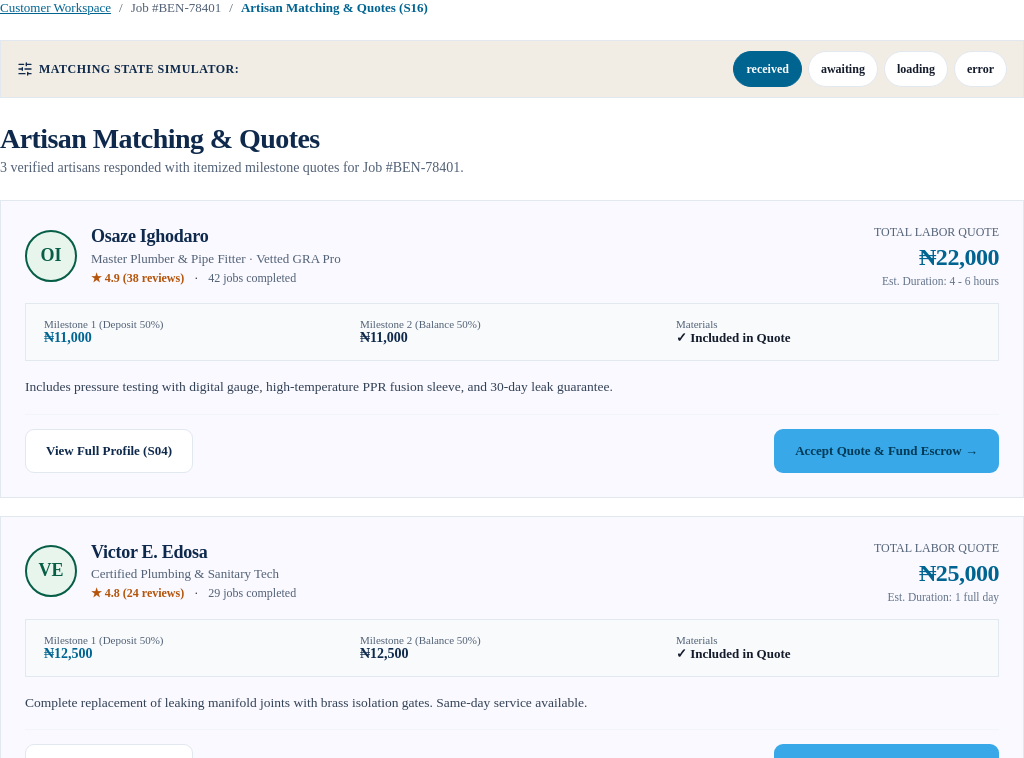
Test: Customer Requests & Matching (S13, S14, S15, S16) › renders S16 Matching Quotes and supports simulator state switching
The image size is (1024, 758).
Expected: the heading "Artisan Matching & Quotes" is shown, [0, 123, 320, 154]
Expected: the heading "Osaze Ighodaro" is shown, [91, 226, 208, 246]
# Switch to awaiting state
Click the button "awaiting" at (843, 69), box [808, 51, 878, 87]
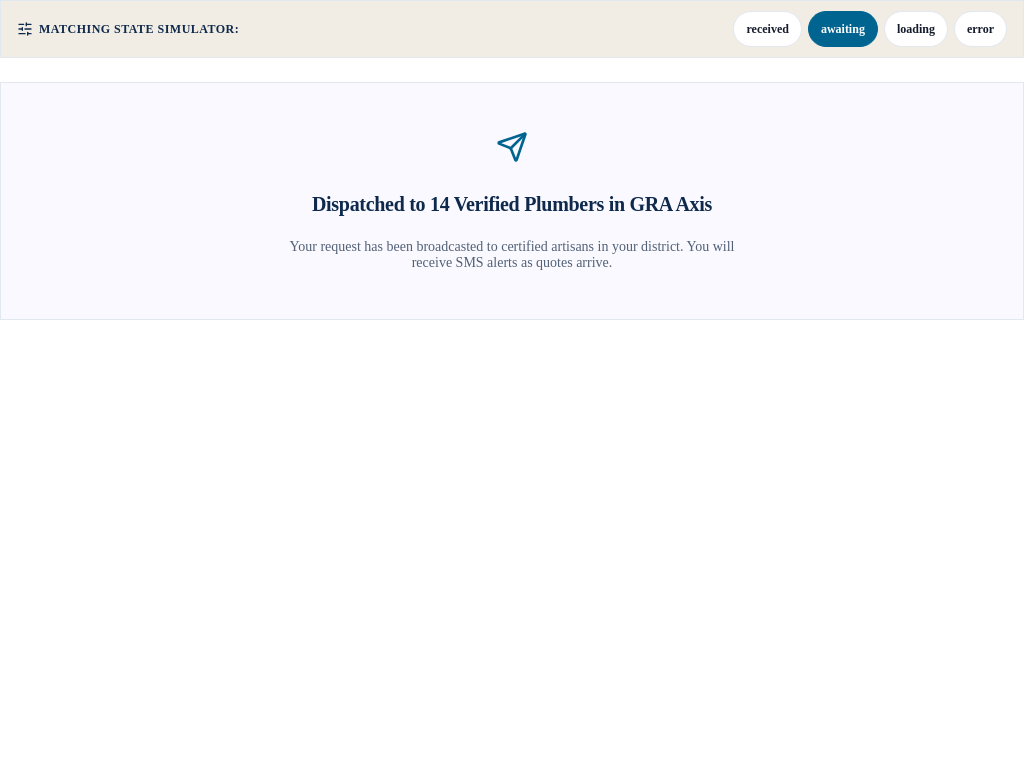
Now the element with test id "matching-awaiting" is shown, box [0, 0, 1023, 368]
# Switch to loading state
Click the button "loading" at (916, 29), box [884, 11, 948, 47]
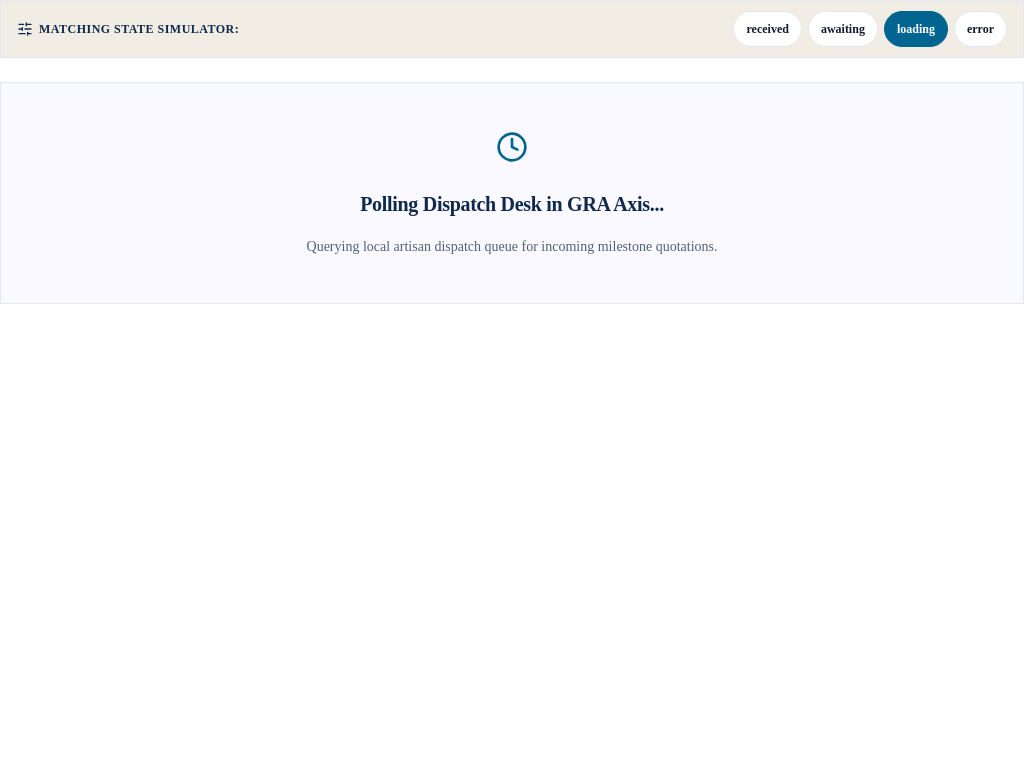
Now the element with test id "matching-loading" is shown, box [0, 0, 1023, 352]
# Switch to error state
Click the button "error" at (980, 29), box [954, 11, 1007, 47]
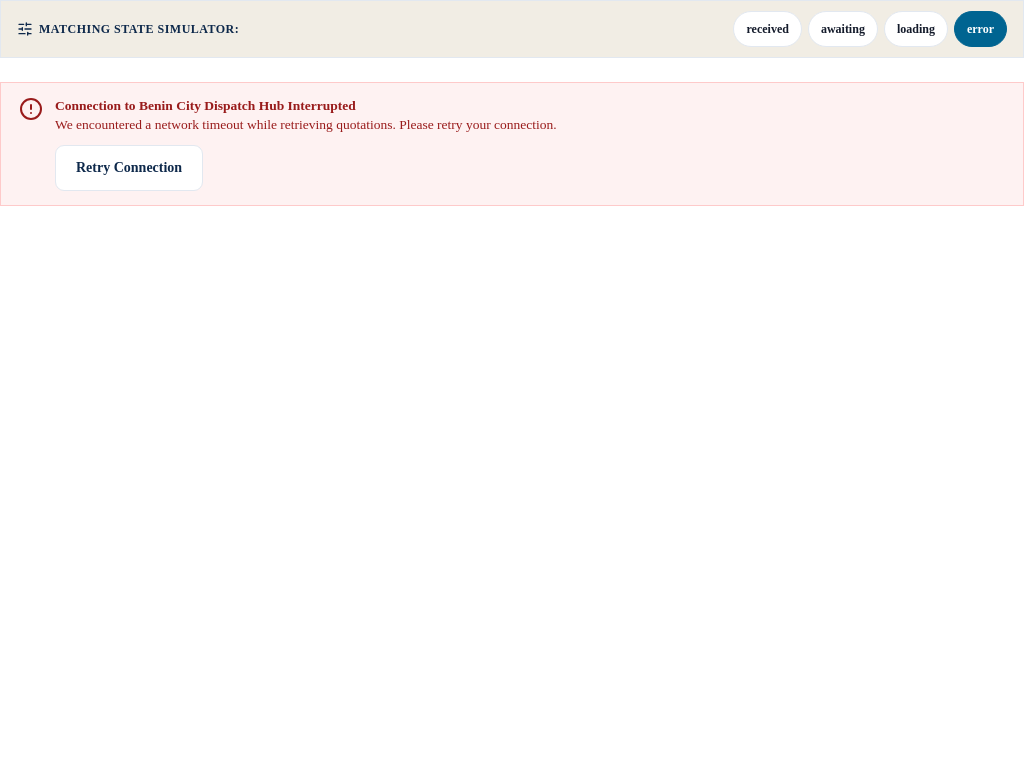
Now the element with test id "matching-error" is shown, box [0, 0, 1023, 254]
